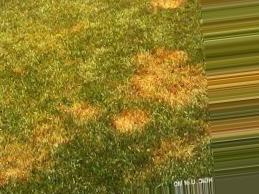patch: (145, 56, 199, 102), (1, 128, 47, 170), (116, 108, 140, 124)
